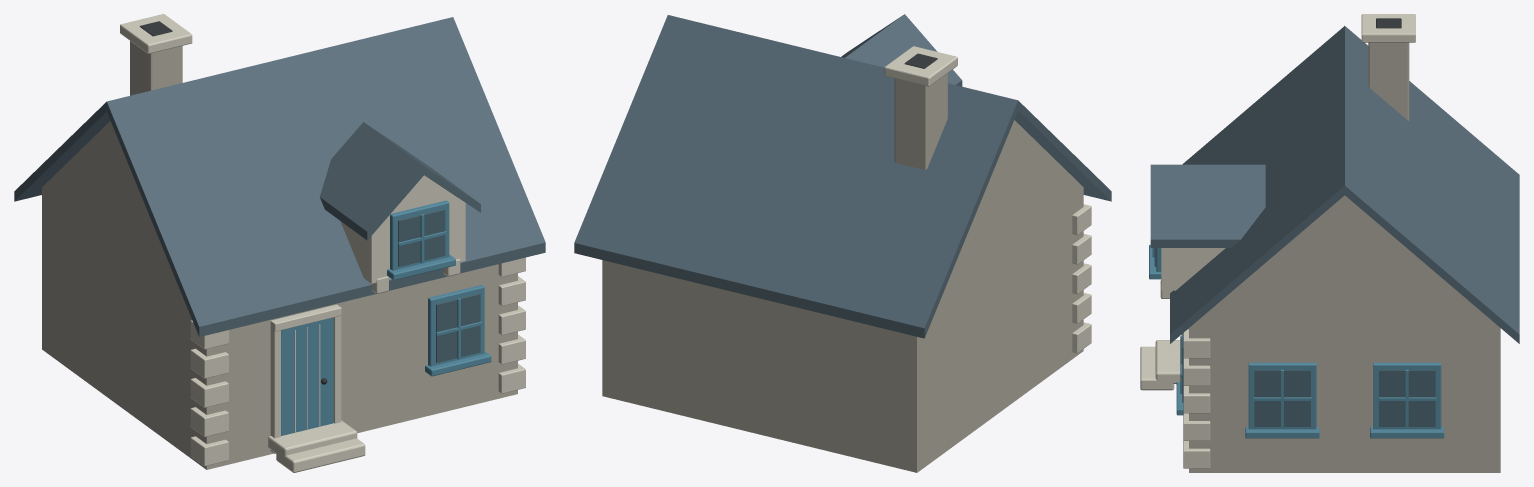
Rendered from small_breton_fisher.glb.
3 renders of one model, left to right at view 1: azimuth 30°, elevation 25°; view 2: azimuth 150°, elevation 25°; view 3: azimuth 270°, elevation 25°, orthographic. The views are drawn at different scales.
Parts seen in each view (by area): view 1: Breton steep slate roof, Breton closed stone house, Breton dormer slate roof, Breton fisher door closed door slab, Breton projecting dormer body, Breton lower front window dark glazing, Breton narrow stone chimney masonry shaft, Breton dormer window dark glazing, Breton front stone step.001, Breton narrow stone chimney projecting chimney cap, Breton front stone step, Breton lower front window timber surround (+15 smaller); view 2: Breton steep slate roof, Breton closed stone house, Breton narrow stone chimney masonry shaft, Breton dormer slate roof, Breton narrow stone chimney projecting chimney cap; view 3: Breton closed stone house, Breton steep slate roof, Breton dormer slate roof, Breton side window two glazing, Breton side window one glazing, Breton narrow stone chimney masonry shaft, Breton projecting dormer body, Breton side window one surround, Breton side window two surround, Breton narrow stone chimney projecting chimney cap, Breton front stone step.001, Breton front stone step (+7 smaller).
Part boxes in pixels (<box>): Breton steep slate roof: <box>14,17,545,336</box>; Breton closed stone house: <box>42,121,517,469</box>; Breton dormer slate roof: <box>320,122,480,240</box>; Breton fisher door closed door slab: <box>281,317,333,435</box>; Breton projecting dormer body: <box>340,175,465,283</box>; Breton lower front window dark glazing: <box>436,293,480,362</box>; Breton narrow stone chimney masonry shaft: <box>130,41,182,95</box>; Breton dormer window dark glazing: <box>398,209,445,266</box>; Breton front stone step.001: <box>268,420,357,456</box>; Breton narrow stone chimney projecting chimney cap: <box>120,14,192,53</box>; Breton front stone step: <box>276,438,365,472</box>; Breton lower front window timber surround: <box>428,285,484,366</box>; Breton steep slate roof: <box>574,15,1111,338</box>; Breton closed stone house: <box>602,120,1083,472</box>; Breton narrow stone chimney masonry shaft: <box>894,73,947,169</box>; Breton dormer slate roof: <box>841,14,962,86</box>; Breton narrow stone chimney projecting chimney cap: <box>884,46,957,86</box>; Breton closed stone house: <box>1189,195,1500,472</box>; Breton steep slate roof: <box>1170,26,1519,343</box>; Breton dormer slate roof: <box>1150,164,1265,247</box>; Breton side window two glazing: <box>1379,370,1435,426</box>; Breton side window one glazing: <box>1254,370,1310,426</box>; Breton narrow stone chimney masonry shaft: <box>1368,42,1409,120</box>; Breton projecting dormer body: <box>1161,248,1225,290</box>; Breton side window one surround: <box>1248,362,1316,429</box>; Breton side window two surround: <box>1373,362,1441,429</box>; Breton narrow stone chimney projecting chimney cap: <box>1361,14,1415,42</box>; Breton front stone step.001: <box>1155,340,1180,383</box>; Breton front stone step: <box>1140,346,1174,390</box>.
Size of the model in its own units: 5.34 by 5.17 by 5.36.
